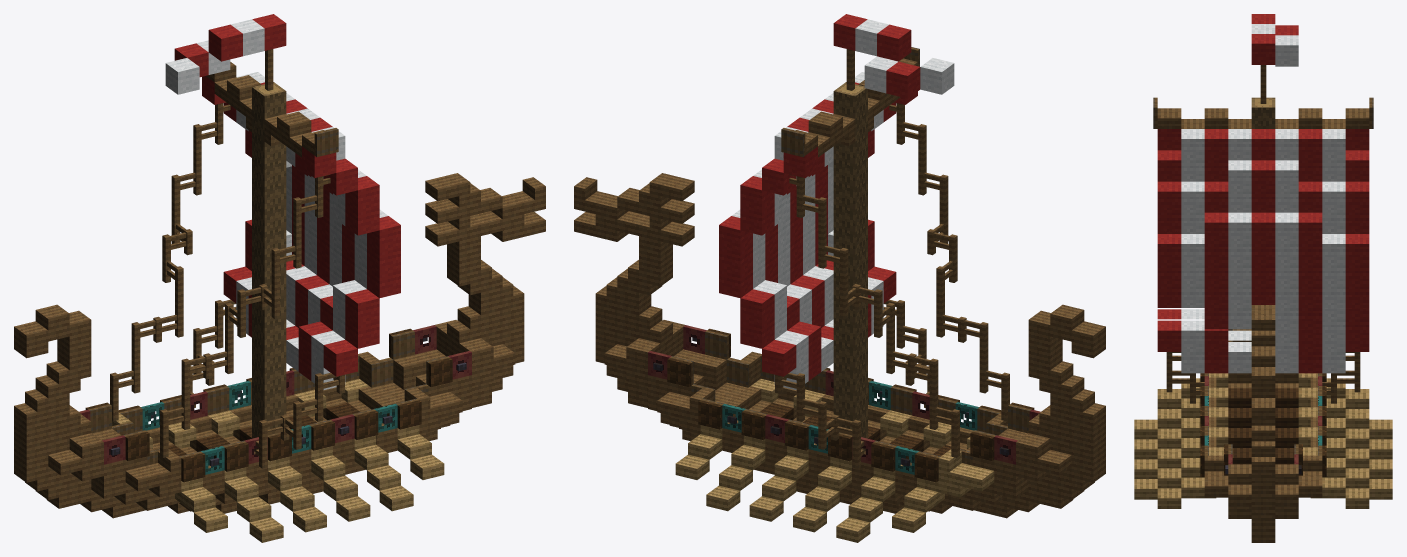
The model's file is Ship1.glb.
3 renders of one model, left to right at view 1: azimuth 30°, elevation 25°; view 2: azimuth 150°, elevation 25°; view 3: azimuth 270°, elevation 25°, orthographic. The views are drawn at different scales.
Visible parts, largest first — view 1: node_14, node_12, node_6, node_4, node_10, node_8, node_11, node_13, node_3, node_5, node_1, node_7; view 2: node_14, node_6, node_10, node_12, node_4, node_13, node_11, node_5, node_3, node_8, node_2, node_9; view 3: node_6, node_4, node_12, node_14, node_10, node_2, node_8, node_1, node_3, node_5, node_11, node_13.
Part boxes in pixels (bbox=[...]): node_14: bbox=[14, 171, 298, 518]; node_12: bbox=[48, 244, 370, 542]; node_6: bbox=[245, 166, 545, 440]; node_4: bbox=[308, 194, 515, 511]; node_10: bbox=[165, 14, 307, 209]; node_8: bbox=[264, 108, 357, 245]; node_11: bbox=[102, 419, 334, 482]; node_13: bbox=[79, 378, 251, 435]; node_3: bbox=[331, 351, 471, 443]; node_5: bbox=[286, 325, 436, 396]; node_1: bbox=[308, 169, 379, 235]; node_7: bbox=[314, 128, 338, 156]; node_14: bbox=[749, 200, 1105, 542]; node_6: bbox=[574, 173, 824, 511]; node_10: bbox=[762, 14, 954, 245]; node_12: bbox=[825, 171, 1027, 455]; node_4: bbox=[663, 166, 874, 428]; node_13: bbox=[785, 419, 1017, 482]; node_11: bbox=[868, 378, 1040, 435]; node_5: bbox=[648, 351, 788, 443]; node_3: bbox=[683, 325, 833, 396]; node_8: bbox=[825, 58, 926, 172]; node_2: bbox=[740, 153, 824, 235]; node_9: bbox=[781, 128, 805, 156]; node_6: bbox=[1251, 234, 1392, 542]; node_4: bbox=[1134, 234, 1251, 518]; node_12: bbox=[1134, 320, 1251, 478]; node_14: bbox=[1275, 340, 1392, 478]; node_10: bbox=[1251, 14, 1369, 181]; node_2: bbox=[1251, 160, 1369, 243]; node_8: bbox=[1157, 108, 1251, 181]; node_1: bbox=[1157, 160, 1251, 243]; node_3: bbox=[1200, 416, 1232, 476]; node_5: bbox=[1294, 416, 1326, 476]; node_11: bbox=[1200, 329, 1232, 425]; node_13: bbox=[1318, 373, 1326, 425].
Size of the model in its own units: 24 by 21 by 11.
Materials: 2 (2 with a texture image).
